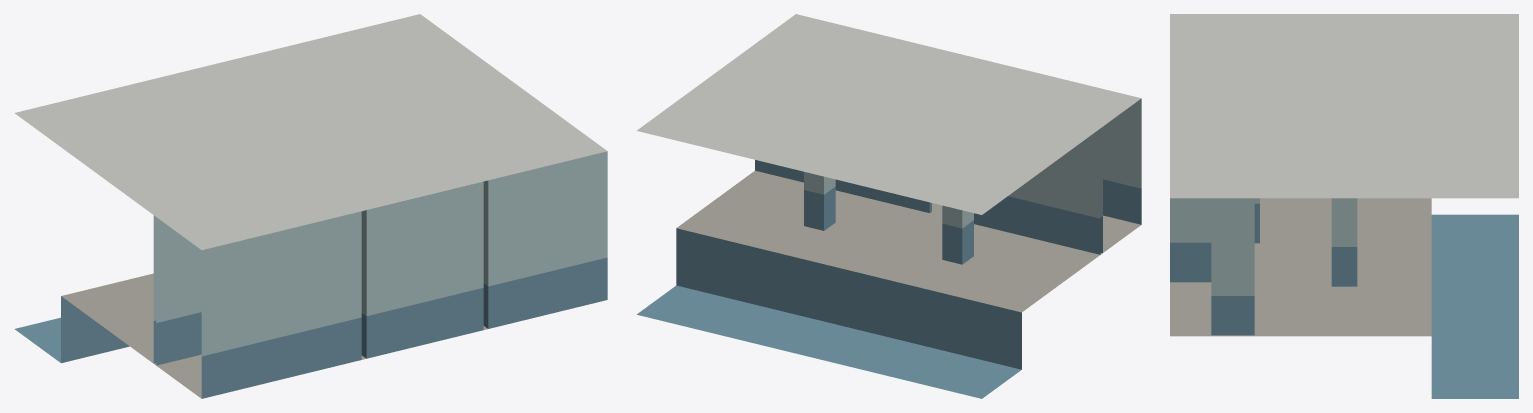
The model's file is chunk_1_4.glb.
3 renders of one model, left to right at view 1: azimuth 30°, elevation 25°; view 2: azimuth 150°, elevation 25°; view 3: azimuth 270°, elevation 25°, orthographic. The views are drawn at different scales.
Parts seen in each view (by area): view 1: chunk_1_4; view 2: chunk_1_4; view 3: chunk_1_4.
Boxes of the visible parts, x1,y1,x2,y2 form: chunk_1_4: (14,14,607,398); chunk_1_4: (636,14,1141,398); chunk_1_4: (1170,14,1518,398).
Size of the model in its own units: 12 by 6.1 by 9.6.
